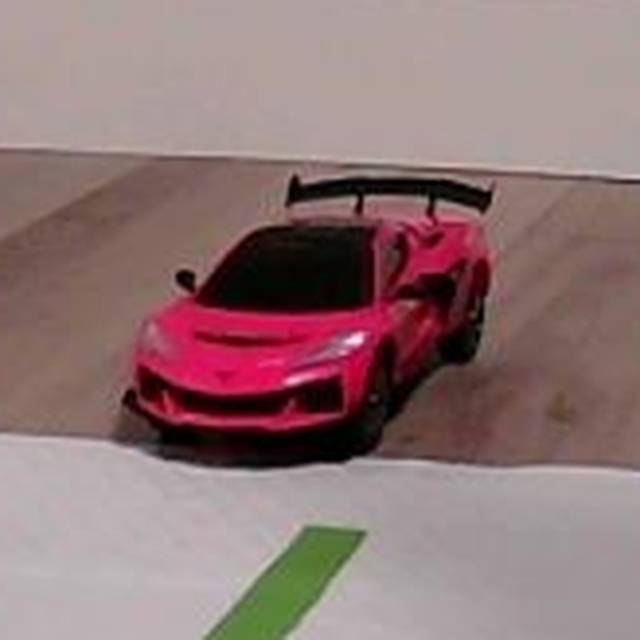tire_front_driver: (360, 385, 400, 445)
tire_rear_driver: (440, 300, 485, 360)
